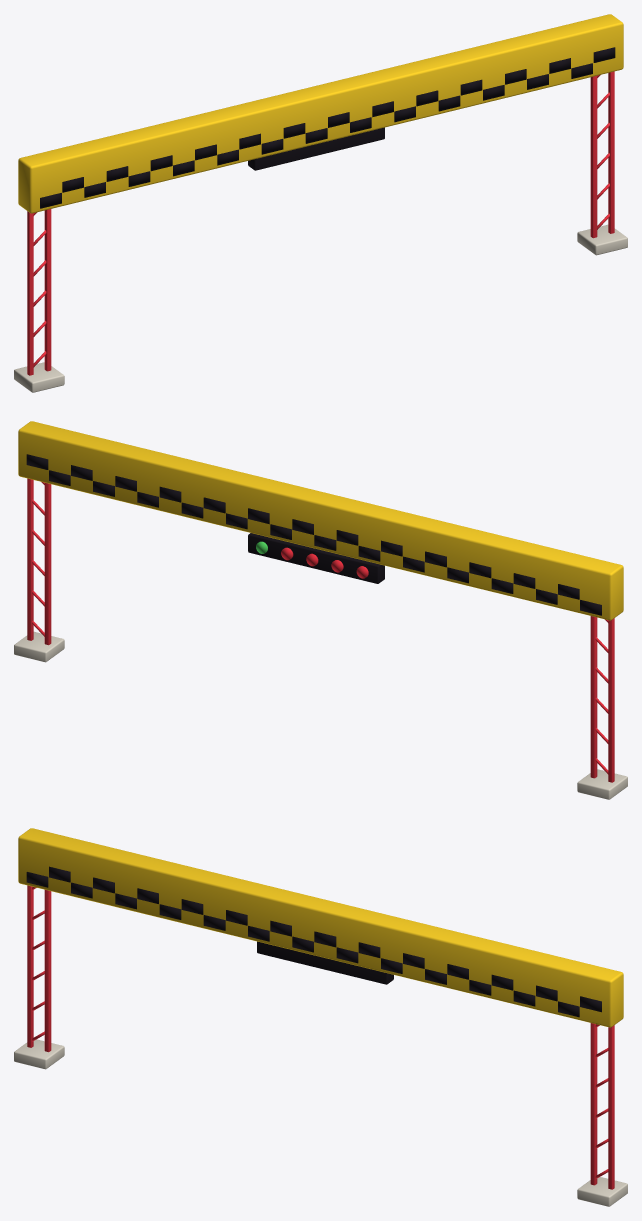
Rendered from gantry.glb.
3 views of the same model, one above another, from view 1: azimuth 30°, elevation 25°; view 2: azimuth 150°, elevation 25°; view 3: azimuth 330°, elevation 25° (orthographic).
Visible parts, largest first — view 1: gantry_mesh; view 2: gantry_mesh; view 3: gantry_mesh.
Part boxes in pixels (bbox=[...]): gantry_mesh: bbox=[14, 14, 627, 392]; gantry_mesh: bbox=[14, 421, 627, 799]; gantry_mesh: bbox=[14, 828, 627, 1206].
Size of the model in its own units: 23.7 by 8.5 by 1.3.
